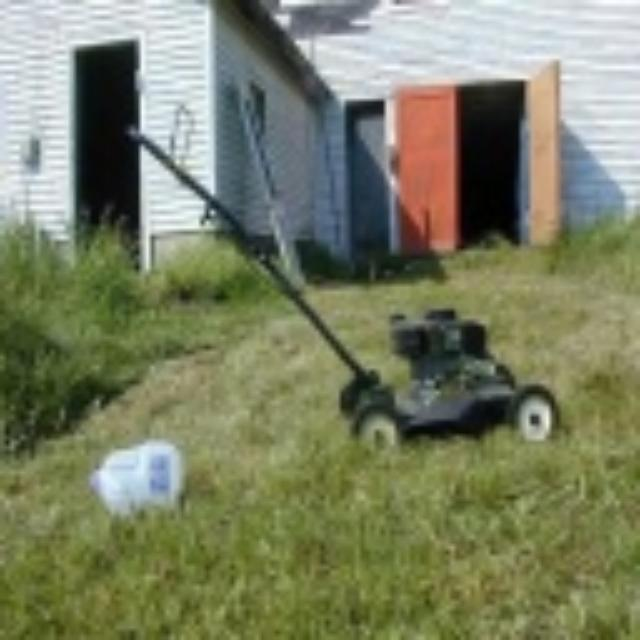Rotary-Mower: (120, 110, 560, 454)
